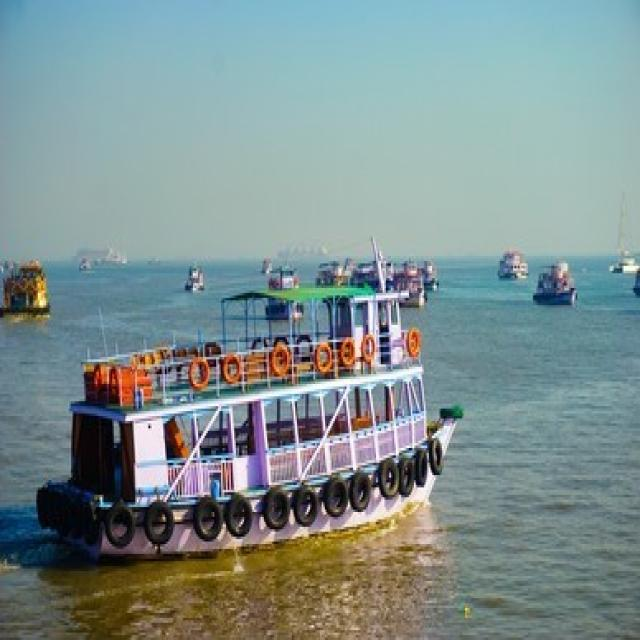houseboat: (40, 257, 456, 559), (5, 251, 57, 318), (534, 238, 580, 312), (497, 231, 537, 273), (172, 259, 208, 299)
